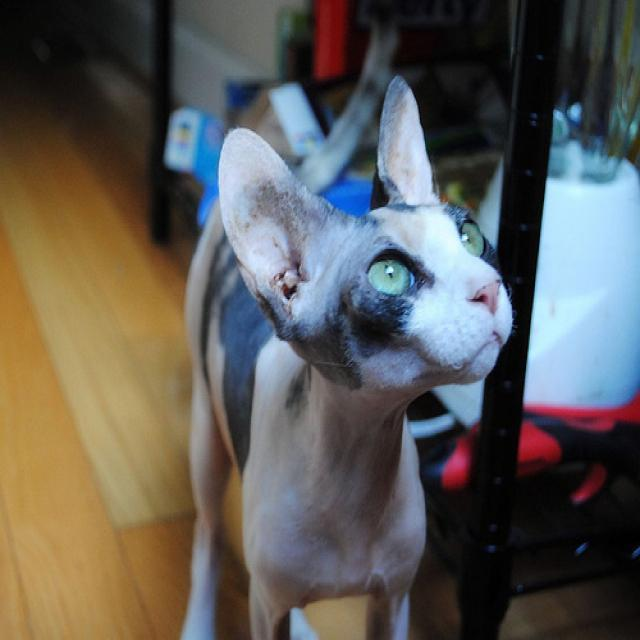Sphynx: (208, 58, 518, 394)
